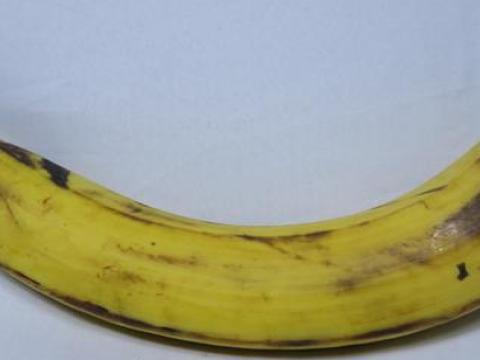overripe: (0, 105, 479, 359)
